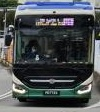bus: (62, 16, 74, 26)
